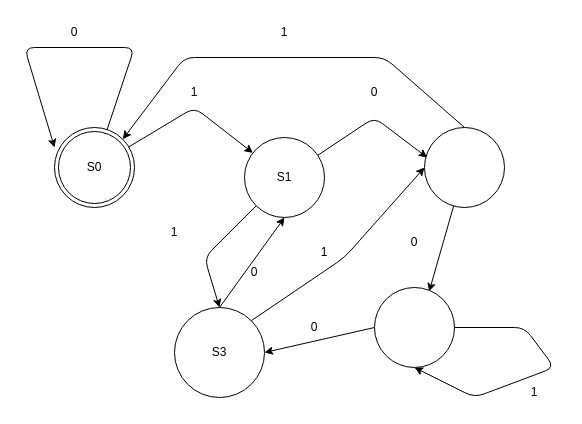
The diagram is 582 pixels wide and 424 high, and some of its shapes have lost their labels. The shapes that lost their labels are listed below. From the top down, each one's centre as x and y in pixels, then its label:
At pixel 464 167: "S2".
At pixel 414 327: "S4".
